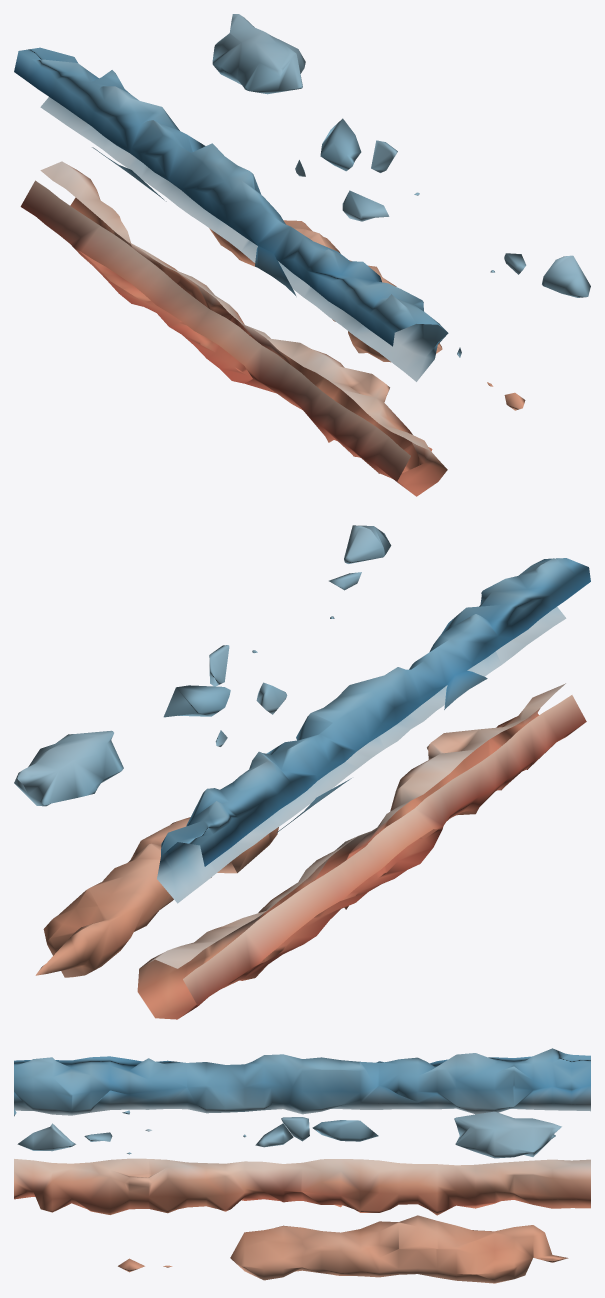
3 views of the same model, one above another, from view 1: azimuth 30°, elevation 25°; view 2: azimuth 150°, elevation 25°; view 3: azimuth 270°, elevation 25° (orthographic). The views are drawn at different scales.
Size of the model in its own units: 0.8787 by 0.8312 by 2.5.
